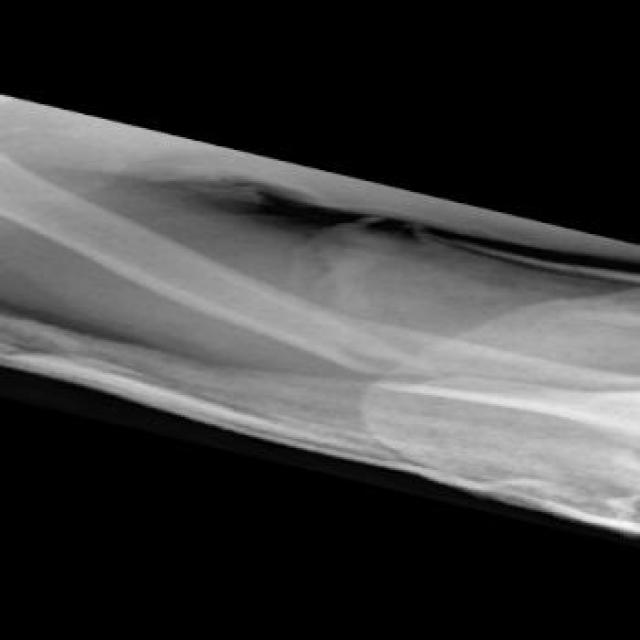Fracture: (306, 312, 466, 385)
